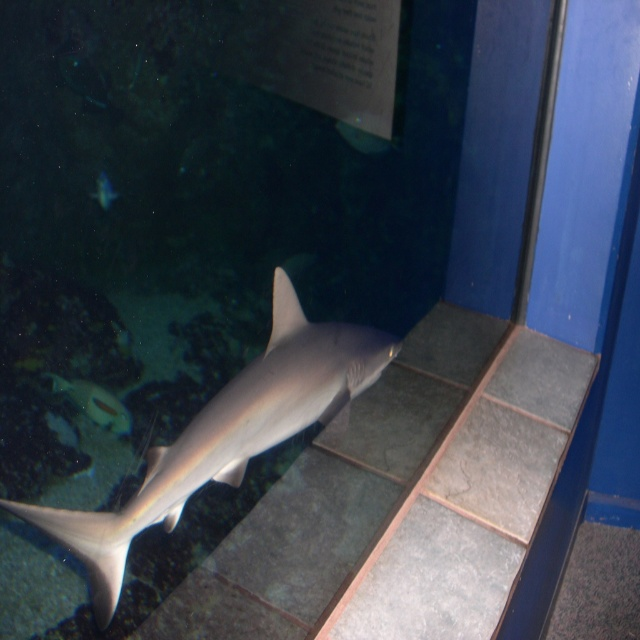Shark: (0, 262, 399, 625)
